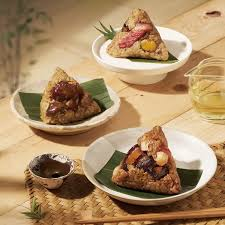zongzi: (113, 126, 180, 193), (40, 68, 100, 124), (109, 9, 168, 59)
